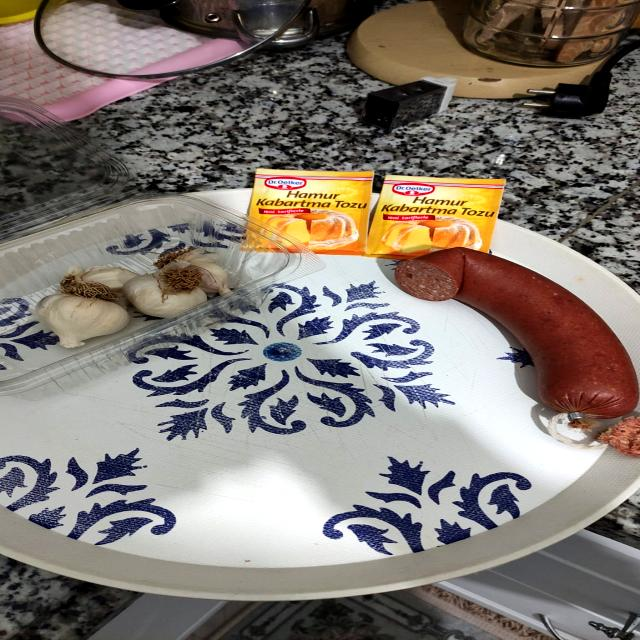garlic: (37, 279, 135, 348), (122, 264, 217, 316)
sausage: (377, 241, 640, 450)
